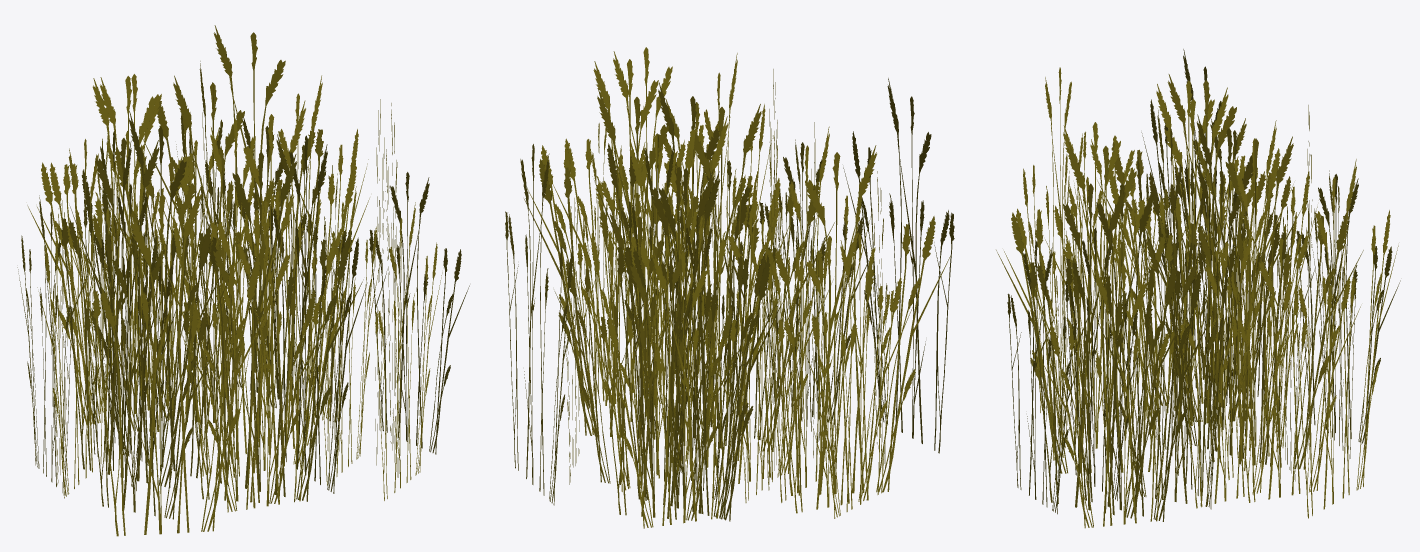
File: space_wheat.fbx
3 renders of one model, left to right at view 1: azimuth 30°, elevation 25°; view 2: azimuth 150°, elevation 25°; view 3: azimuth 270°, elevation 25°, orthographic. The views are drawn at different scales.
Parts seen in each view (by area): view 1: Cube_48; view 2: Cube_48; view 3: Cube_48.
Boxes of the visible parts, x1,y1,x2,y2 form: Cube_48: (17,25,469,536); Cube_48: (505,47,954,528); Cube_48: (996,49,1400,528).
Bounding box in the file's own units: 98.38 × 84.06 × 93.86.
Materials: 1 (1 with a texture image).
